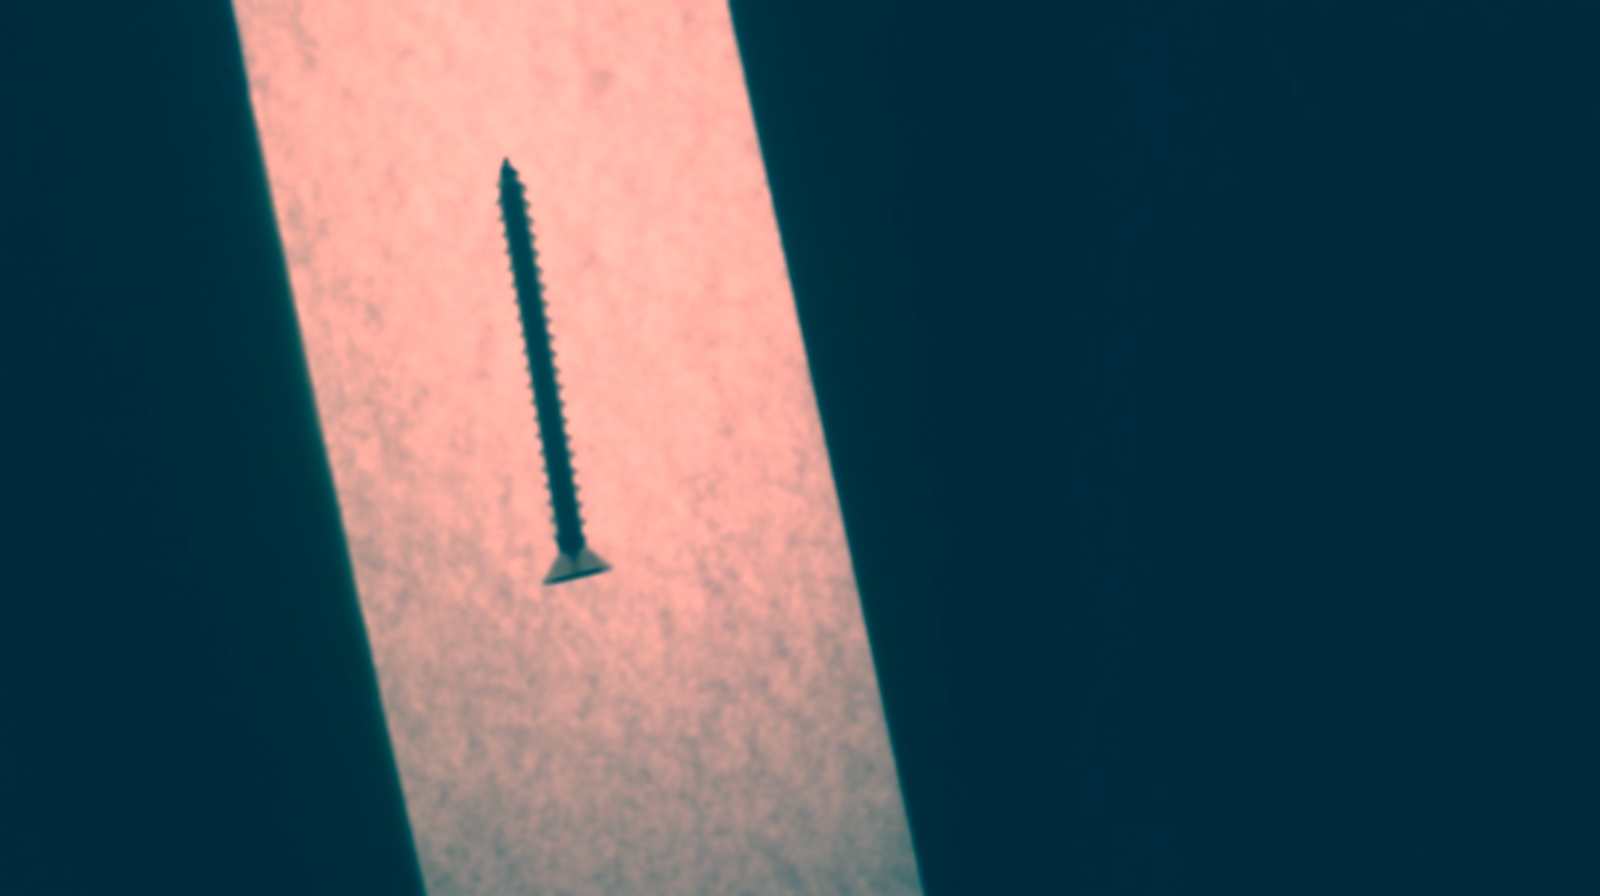S002: (466, 150, 632, 593)
